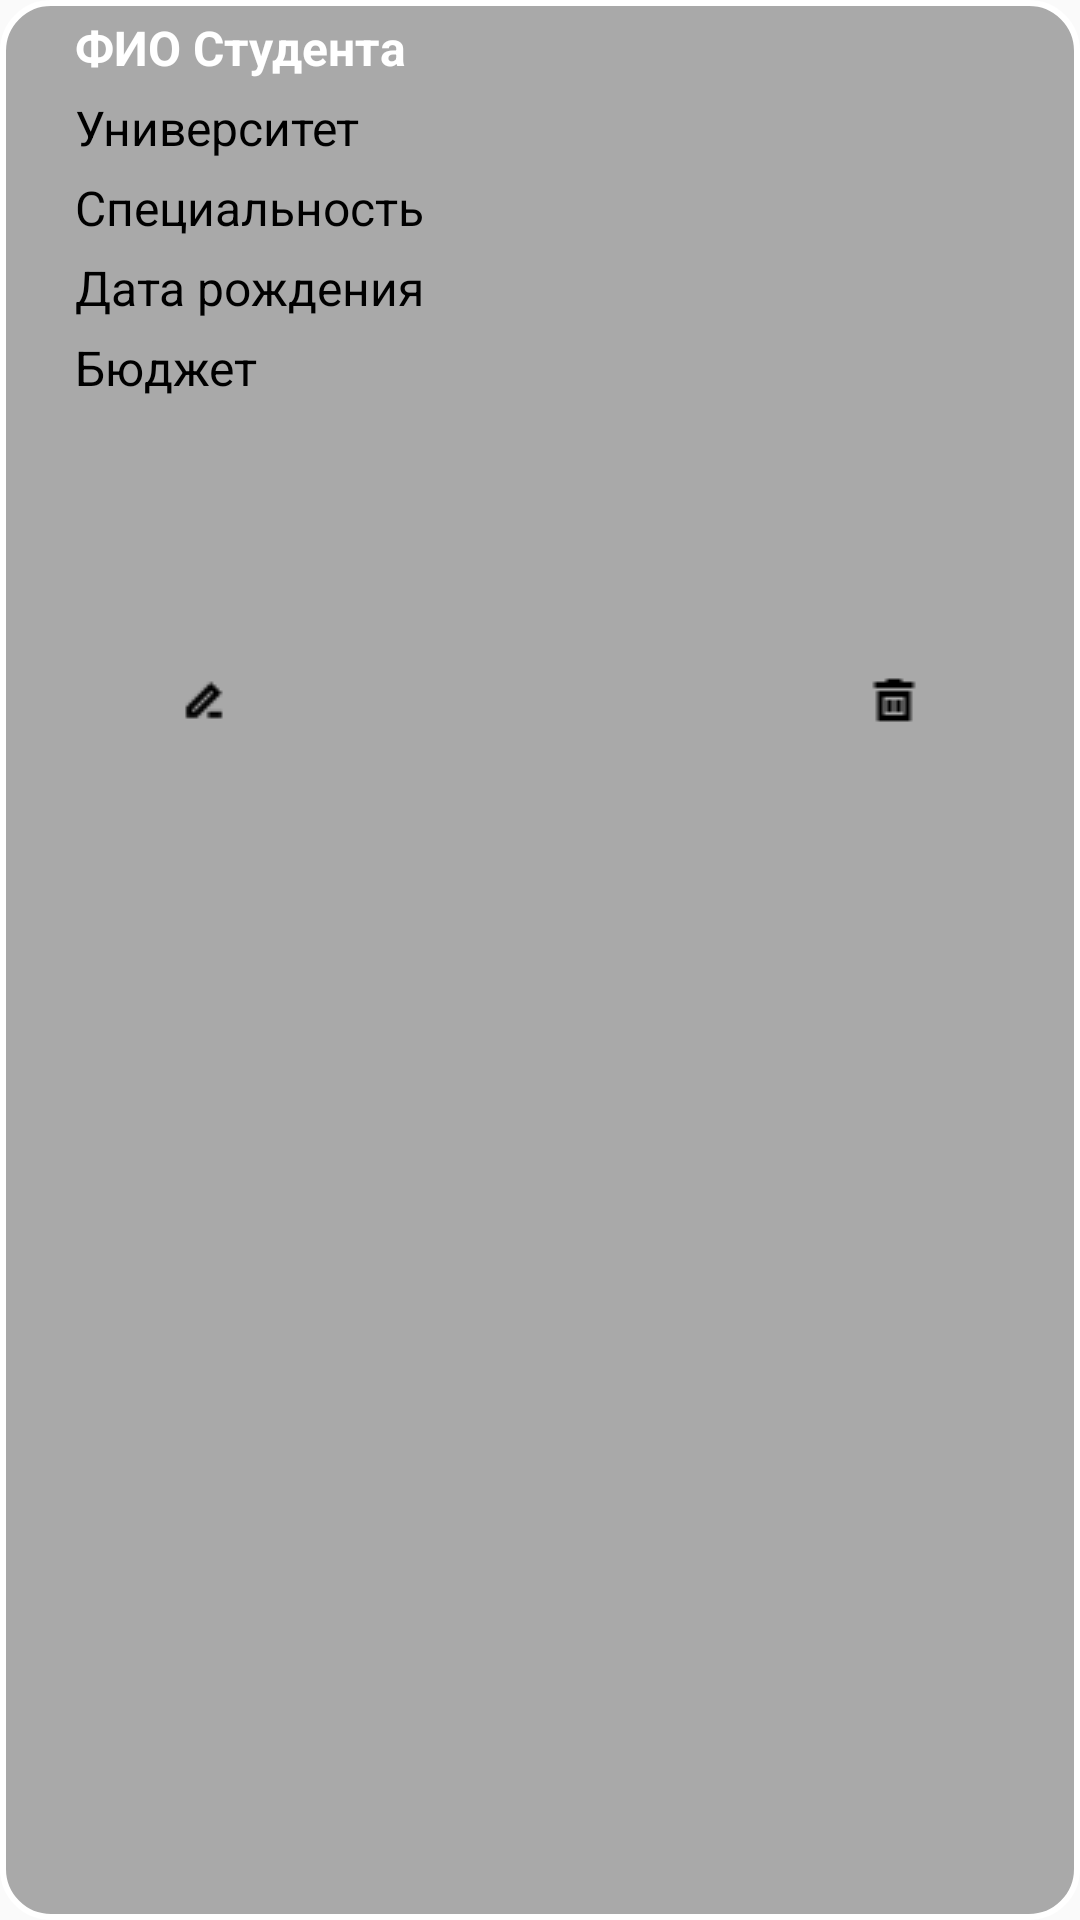

Point at icon controls on the screen. Image size 1080 x 1920, points as [x,y].
delete: [894,700]
edit: [204,700]
